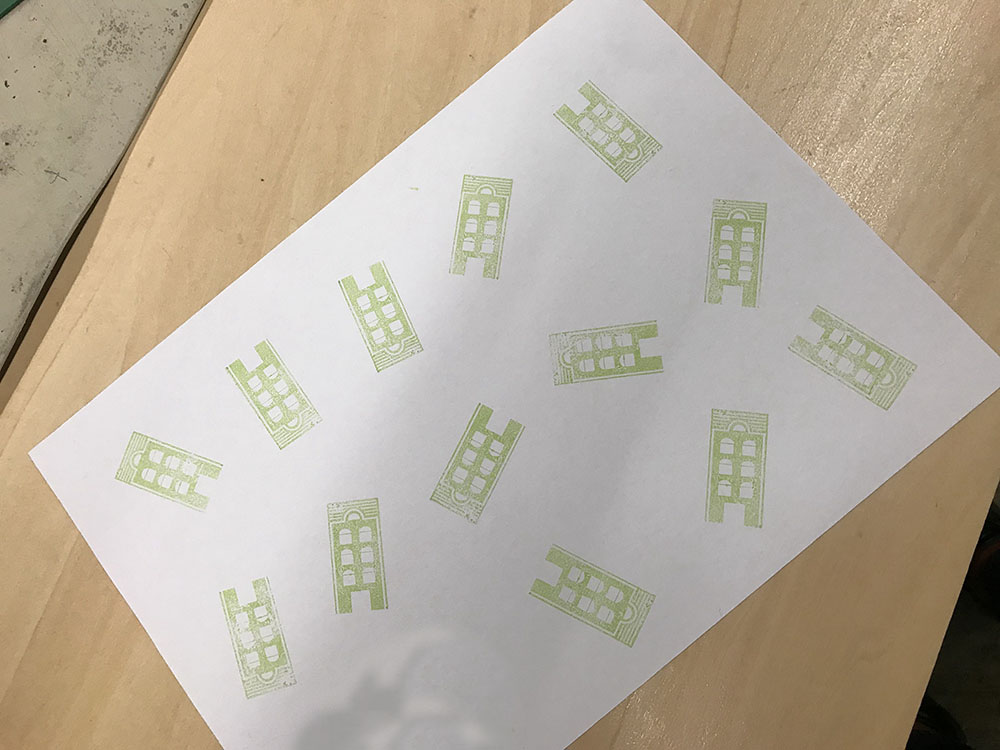build: (512, 535, 678, 659), (780, 291, 925, 422), (416, 394, 540, 533), (540, 73, 675, 193), (217, 331, 334, 455), (212, 571, 316, 708), (105, 423, 236, 531), (686, 176, 783, 321), (329, 248, 433, 383), (318, 492, 411, 631), (437, 170, 529, 294), (699, 401, 783, 536), (541, 319, 672, 397)
